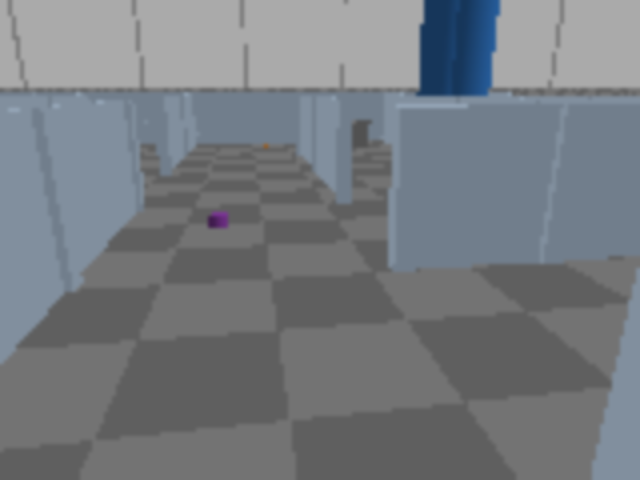obstacle: (347, 121, 370, 148)
puck: (209, 213, 229, 229)
